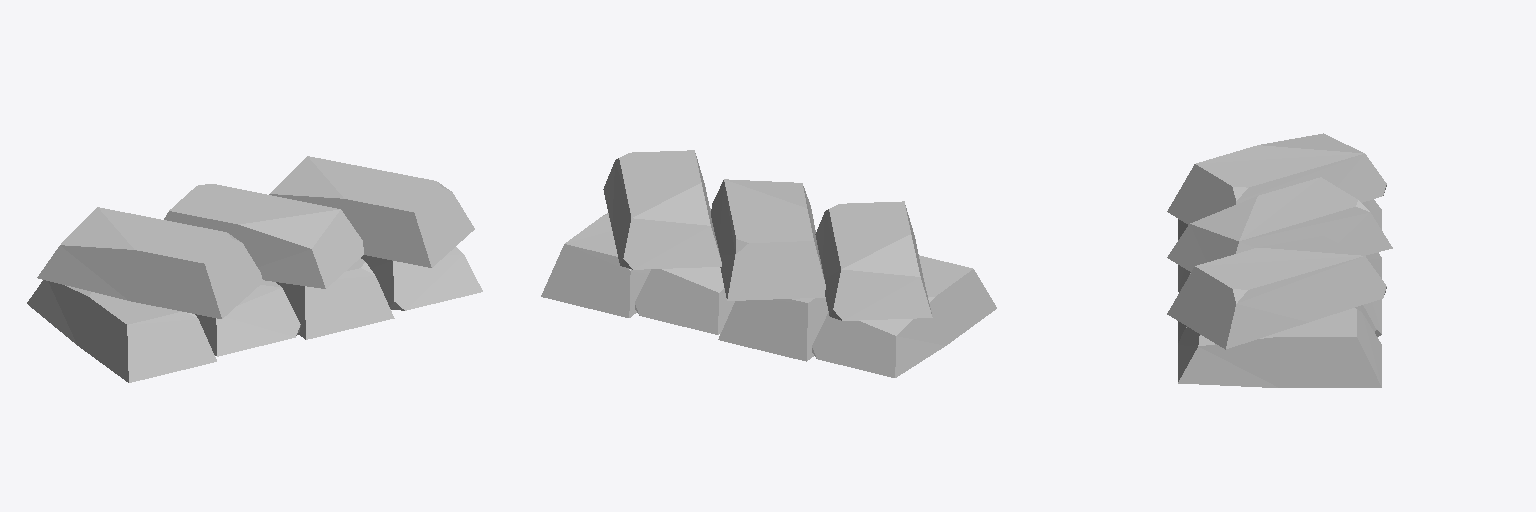
File: Gold-13.obj
The picture shows the model from 3 angles: view 1: azimuth 30°, elevation 25°; view 2: azimuth 150°, elevation 25°; view 3: azimuth 270°, elevation 25°; orthographic projection.
Visible parts, largest first — view 1: Gold_13; view 2: Gold_13; view 3: Gold_13.
Part boxes in pixels (bbox=[...]): Gold_13: bbox=[27, 156, 482, 382]; Gold_13: bbox=[541, 150, 996, 377]; Gold_13: bbox=[1167, 133, 1392, 387].
Size of the model in its own units: 0.325 by 0.075 by 0.1658.